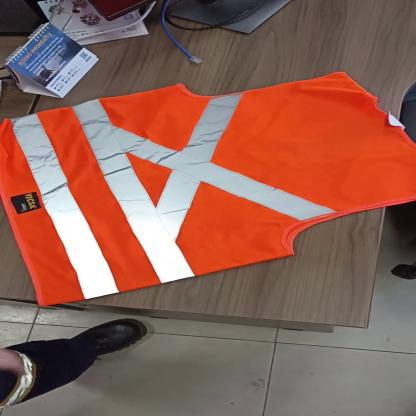colete: (0, 69, 416, 310)
